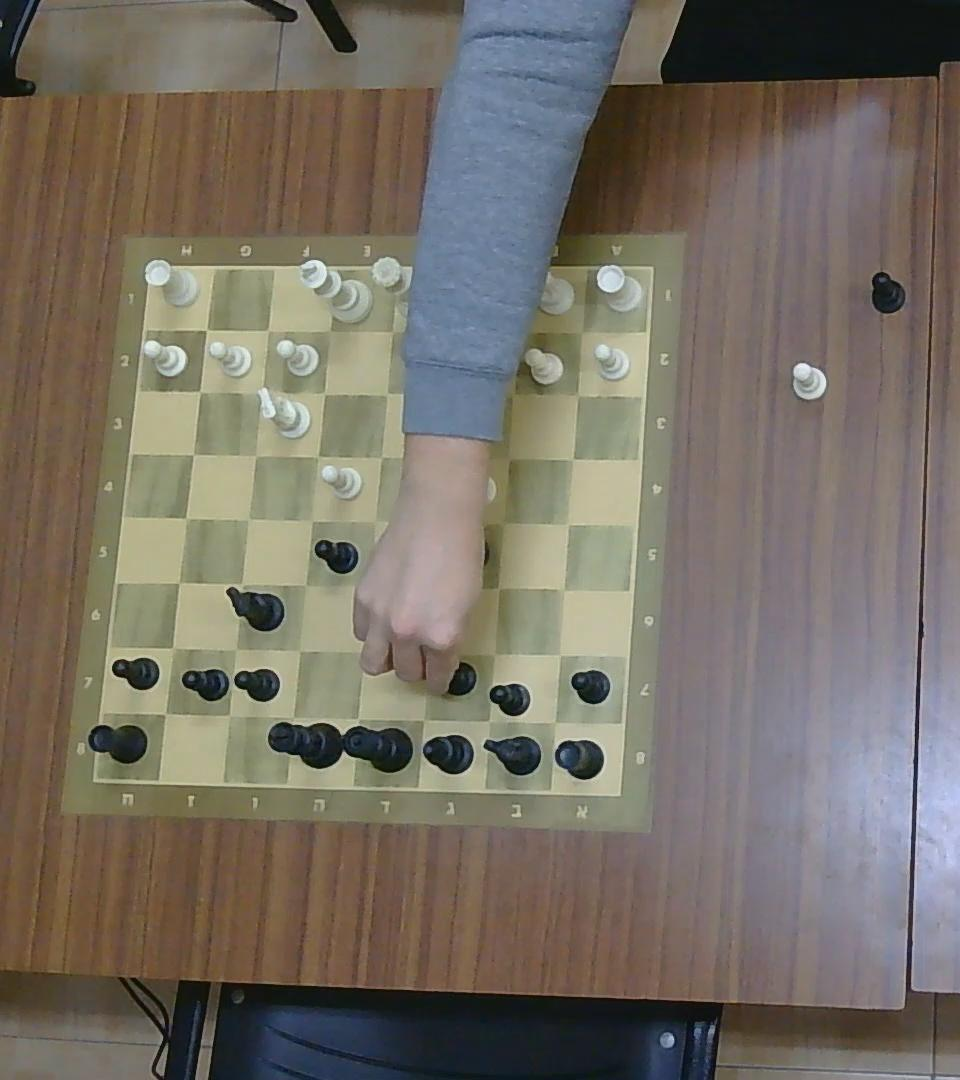xcorner: (285, 634, 313, 664), (542, 707, 570, 736), (443, 316, 468, 348), (549, 573, 577, 601), (152, 697, 179, 726), (278, 704, 305, 733), (563, 379, 590, 407), (558, 443, 585, 471), (474, 706, 501, 734), (379, 316, 405, 345), (345, 704, 371, 733), (351, 635, 377, 664), (374, 378, 400, 407), (215, 701, 241, 729), (570, 316, 595, 345), (160, 633, 185, 662), (357, 572, 382, 601), (411, 706, 436, 734), (490, 507, 515, 535), (415, 640, 440, 668), (438, 378, 462, 407), (234, 504, 259, 531), (556, 509, 581, 536), (547, 641, 572, 668), (361, 506, 386, 533), (425, 509, 450, 536), (318, 316, 342, 344), (222, 635, 246, 663), (511, 318, 535, 346), (480, 641, 505, 667), (242, 440, 266, 467), (433, 443, 456, 471), (166, 569, 191, 594), (228, 571, 253, 596), (193, 316, 218, 341), (305, 442, 329, 468), (293, 572, 317, 598), (486, 574, 510, 600), (248, 378, 272, 404), (256, 317, 280, 343), (496, 444, 520, 470), (174, 504, 197, 531), (422, 575, 445, 602), (180, 441, 204, 466), (312, 380, 336, 405), (368, 444, 392, 469), (502, 380, 526, 405), (300, 507, 323, 532), (187, 377, 210, 402)
